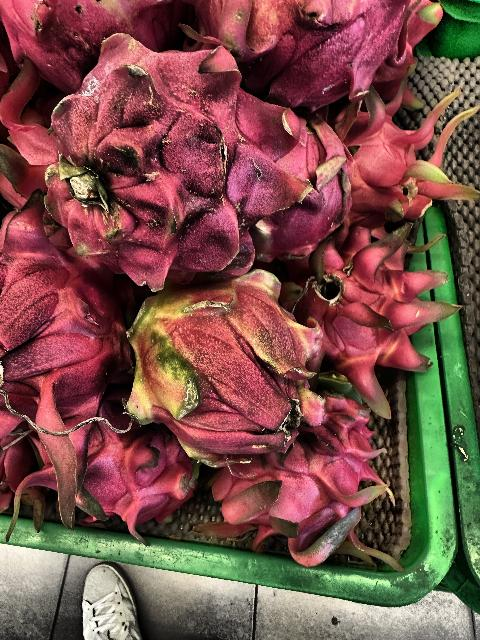buah-naga-belum-matang: (120, 281, 324, 471)
buah-naga-matang: (36, 26, 302, 274), (0, 208, 130, 434), (208, 392, 370, 562), (288, 233, 454, 394), (190, 0, 440, 94), (29, 394, 197, 520), (324, 105, 466, 238)
